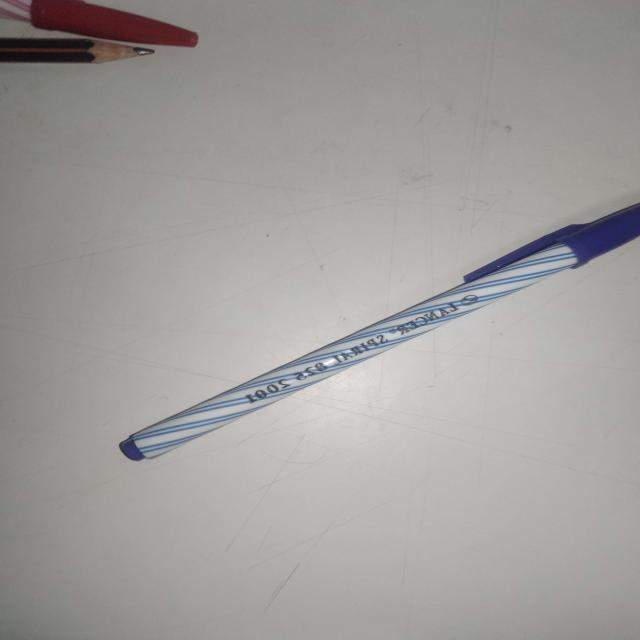pen_pencil: (33, 161, 640, 559)
